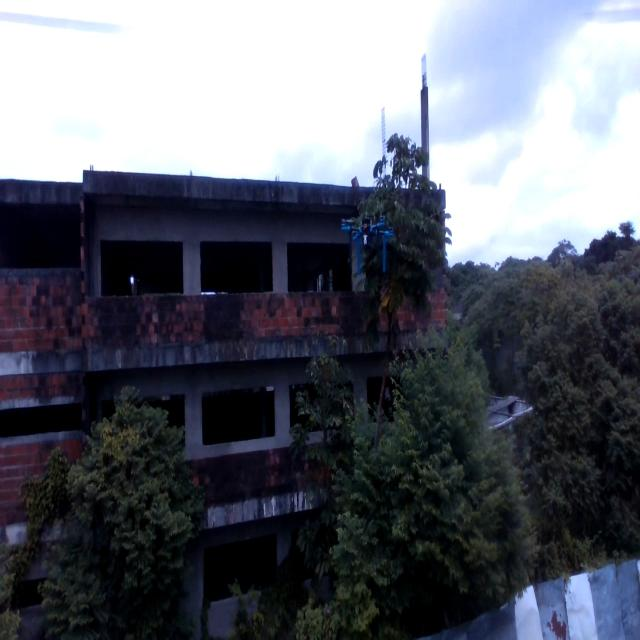-uav-: (342, 195, 394, 286)
